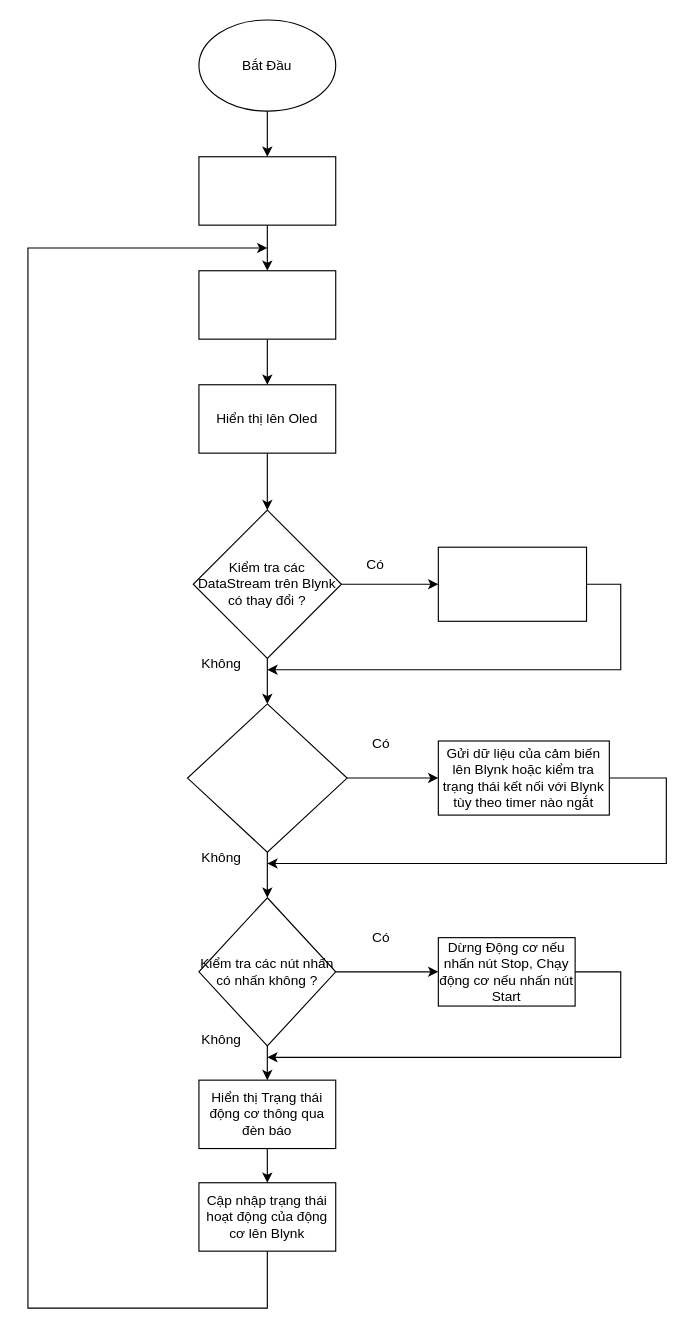
Image size: 695x1337. Some labels were removed from this diagram. The shapes that lost their labels are listed below. From the top down, each one's centre as x and y in pixels, then its label:
At [267,190]: "Khởi tạo các trạng thái ban đầu cho các nút nhấn, oled, Wifi, Kết nối với Blynk.".
At [267,304]: "Đọc cảm biến".
At [512,583]: "Thay đổi các trạng thái của các biến trong vxl theo Datastream bị thay đổi".
At [266,777]: "Kiểm tra xem Timer có ngắt hay chưa ?".
